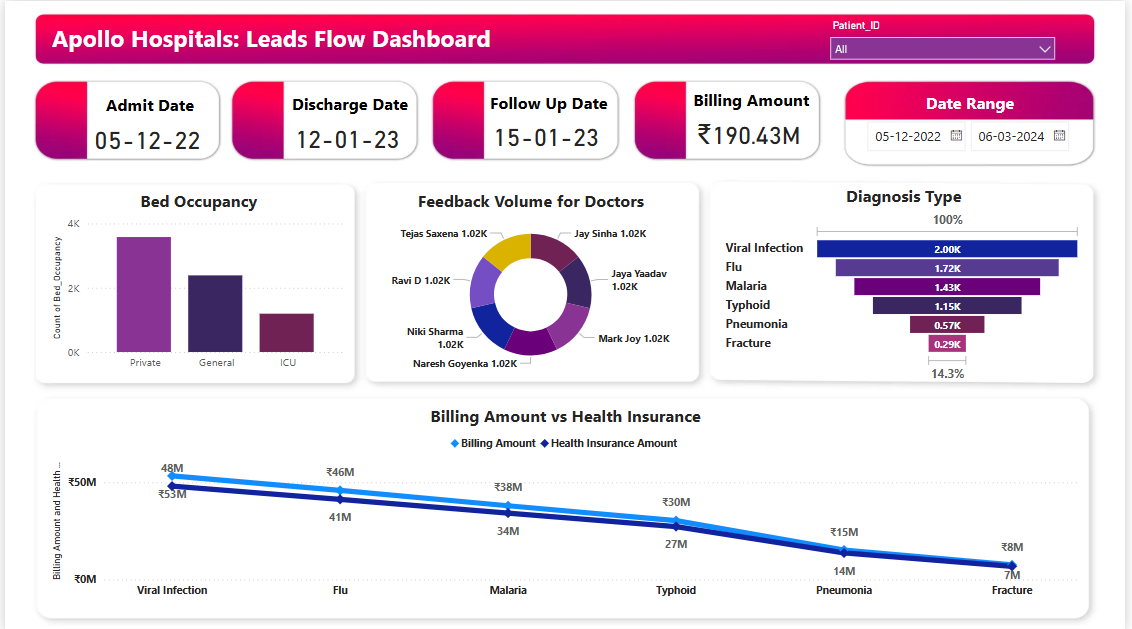

This screenshot's page, from the dashboard's own definition file:
{"tool":"powerbi","page":{"name":"Page 1","canvas":[1280,720],"ordinal":0},"visuals":[{"type":"textbox","box":[48.6,18.6,548.6,48.6],"z":0},{"type":"slicer","fields":{"Values":["Sheet1.Patient_ID"]},"box":[932.9,15.7,277.1,62.9],"z":1},{"type":"card","fields":{"Values":["Min(Sheet1.Admit_Date)"]},"box":[97.1,125.7,131.4,64.3],"z":2},{"type":"textbox","box":[91.4,101.4,148.6,48.6],"z":3},{"type":"card","fields":{"Values":["Min(Sheet1.Discharge_Date)"]},"box":[325.7,124.3,131.4,64.3],"z":4},{"type":"textbox","box":[315.7,100,157.1,48.6],"z":5},{"type":"card","fields":{"Values":["Min(Sheet1.Followup Date)"]},"box":[552.9,122.9,131.4,64.3],"z":6},{"type":"textbox","box":[542.9,98.6,157.1,48.6],"z":7},{"type":"card","fields":{"Values":["Sum(Sheet1.Billing Amount)"]},"box":[784.1,120.6,131.4,64.3],"z":8},{"type":"textbox","box":[774.1,96.4,157.1,48.6],"z":9},{"type":"slicer","title":"Date Range","fields":{"Values":["Sheet1.Admit_Date"]},"box":[972.9,97.1,260,78.6],"z":10},{"type":"columnChart","title":"Bed Occupancy","fields":{"Category":["Sheet1.Bed_Occupancy"],"Y":["CountNonNull(Sheet1.Bed_Occupancy)"]},"box":[48.6,215.7,345.7,215.7],"z":11},{"type":"donutChart","title":"Feedback Volume for Doctors","fields":{"Category":["Sheet1.Doctor"],"Y":["CountNonNull(Sheet1.Doctor)"]},"box":[416.7,215.6,367.8,215.6],"z":12},{"type":"funnel","title":"Diagnosis Type","fields":{"Category":["Sheet1.Diagnosis"],"Y":["CountNonNull(Sheet1.Diagnosis)"]},"box":[818.6,210,417.1,230],"z":13},{"type":"lineChart","title":"Billing Amount vs Health Insurance ","fields":{"Y":["Sum(Sheet1.Billing Amount)","Sum(Sheet1.Health Insurance Amount)"],"Category":["Sheet1.Diagnosis"]},"box":[48.6,461.4,1184.3,230],"z":14}]}

Visuals, with their boxes in screenshot pixels (x1, y1, x2, y2), scaled from the page's 1280x720 canvas onto the 1132x629 screenshot:
textbox: x1=43, y1=16, x2=528, y2=59
slicer - Sheet1.Patient_ID: x1=825, y1=14, x2=1070, y2=69
card - Min(Sheet1.Admit_Date): x1=86, y1=110, x2=202, y2=166
textbox: x1=81, y1=89, x2=212, y2=131
card - Min(Sheet1.Discharge_Date): x1=288, y1=109, x2=404, y2=165
textbox: x1=279, y1=87, x2=418, y2=130
card - Min(Sheet1.Followup Date): x1=489, y1=107, x2=605, y2=164
textbox: x1=480, y1=86, x2=619, y2=129
card - Sum(Sheet1.Billing Amount): x1=693, y1=105, x2=810, y2=162
textbox: x1=685, y1=84, x2=824, y2=127
"Date Range" slicer: x1=860, y1=85, x2=1090, y2=153
"Bed Occupancy" columnChart: x1=43, y1=188, x2=349, y2=377
"Feedback Volume for Doctors" donutChart: x1=369, y1=188, x2=694, y2=377
"Diagnosis Type" funnel: x1=724, y1=183, x2=1093, y2=384
"Billing Amount vs Health Insurance " lineChart: x1=43, y1=403, x2=1090, y2=604
